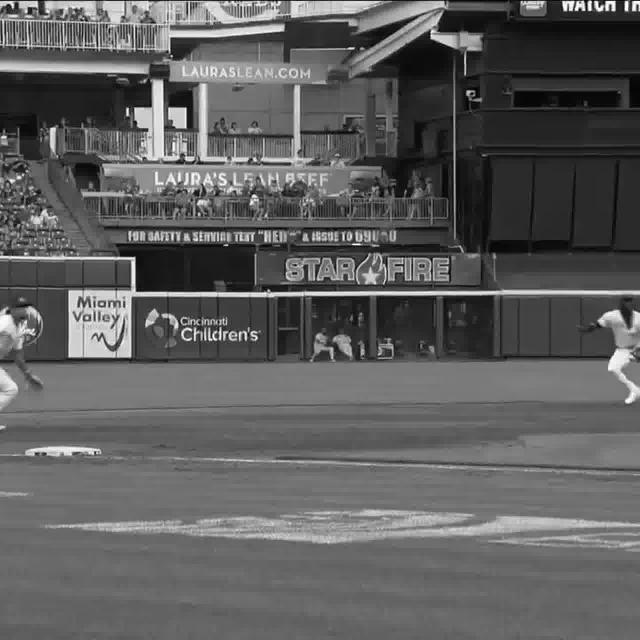base: (18, 441, 108, 464)
baseball_glove: (27, 376, 45, 398)
shoe: (624, 389, 640, 409)
